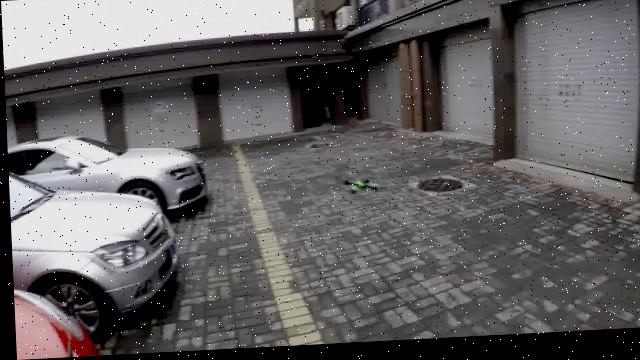drone: (329, 170, 395, 201)
